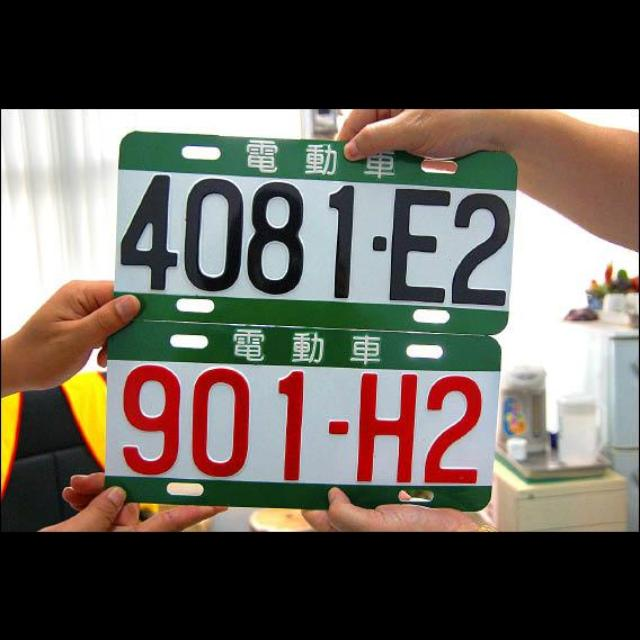plate: (115, 130, 518, 334), (104, 320, 502, 512)
